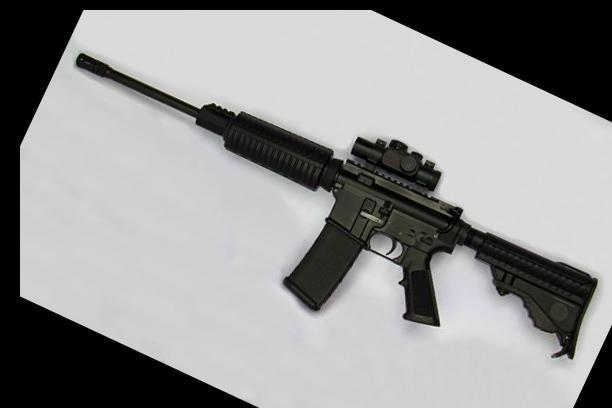larga: (74, 52, 600, 360)
